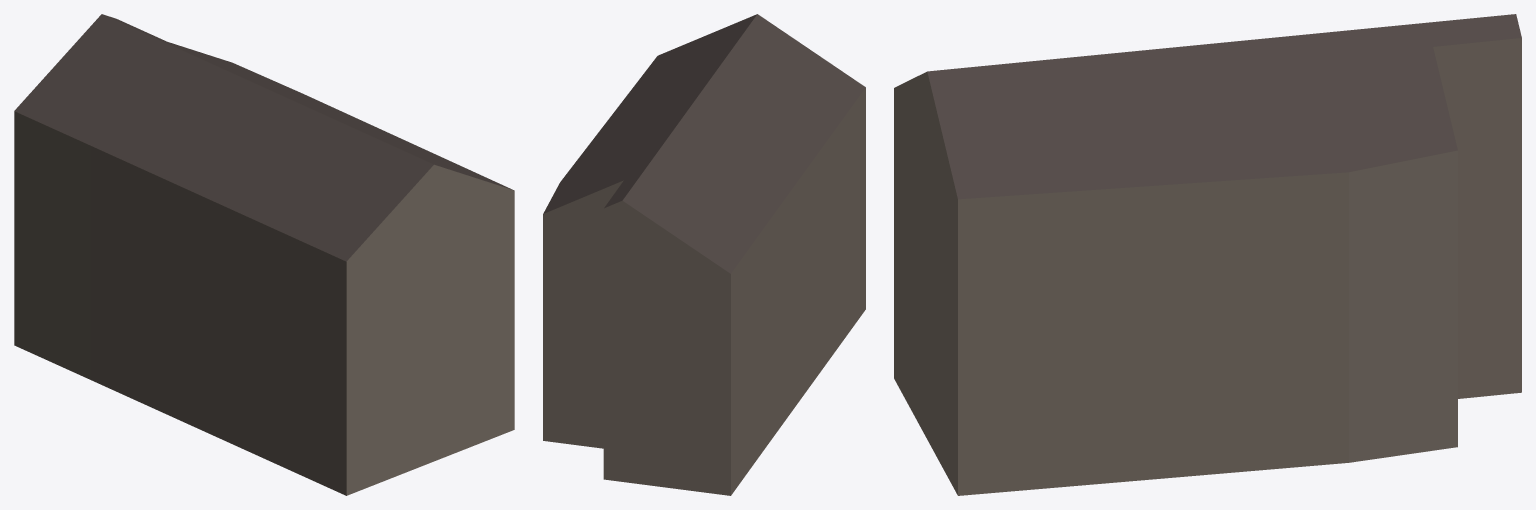
The picture shows the model from 3 angles, left to right: view 1: azimuth 30°, elevation 25°; view 2: azimuth 150°, elevation 25°; view 3: azimuth 270°, elevation 25°; orthographic projection. The views are drawn at different scales.
Parts seen in each view (by area): view 1: HP-w776801009; view 2: HP-w776801009; view 3: HP-w776801009.
Part boxes in pixels (x1,y1,x2,y2): HP-w776801009: (14,14,514,495); HP-w776801009: (543,14,865,495); HP-w776801009: (894,14,1521,495).
Size of the model in its own units: 7.75 by 7.6 by 11.75.
